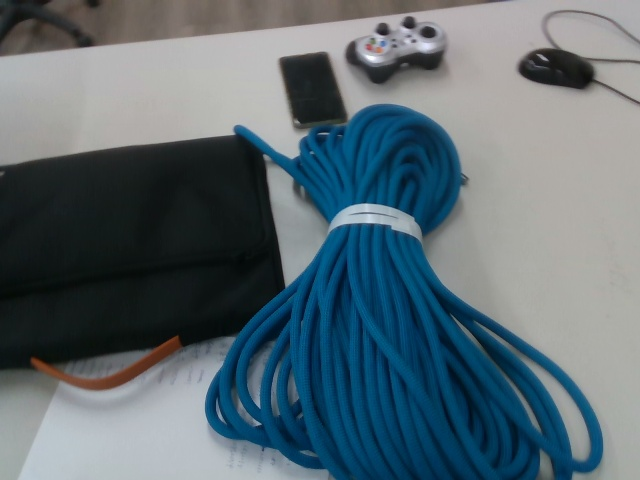rope: (202, 101, 611, 480)
